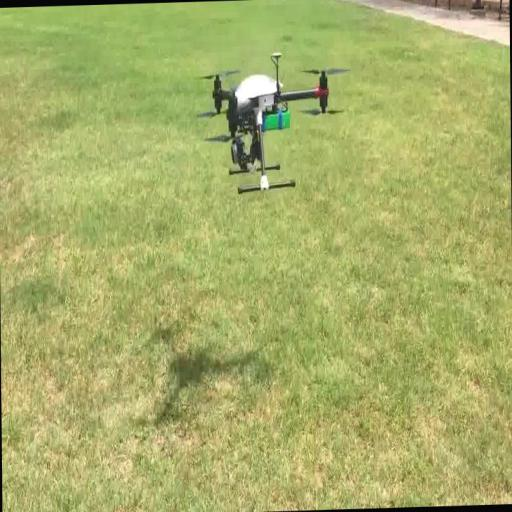drone: (195, 51, 351, 196)
